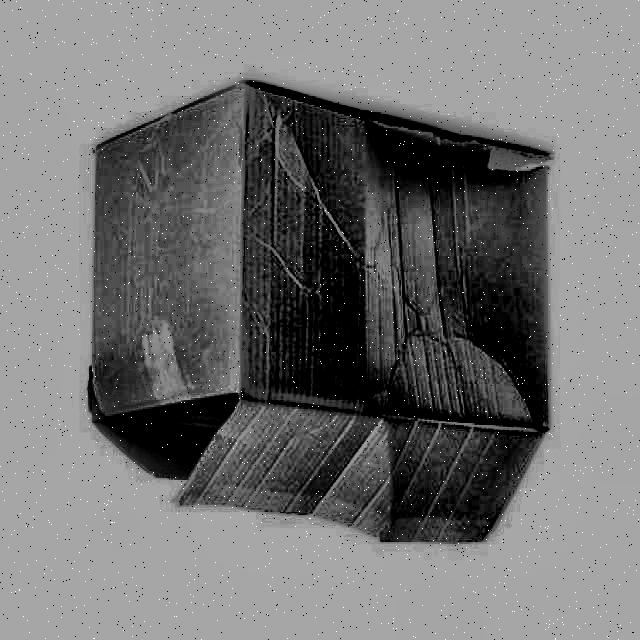box: (73, 60, 566, 563)
hole: (361, 118, 554, 185)
